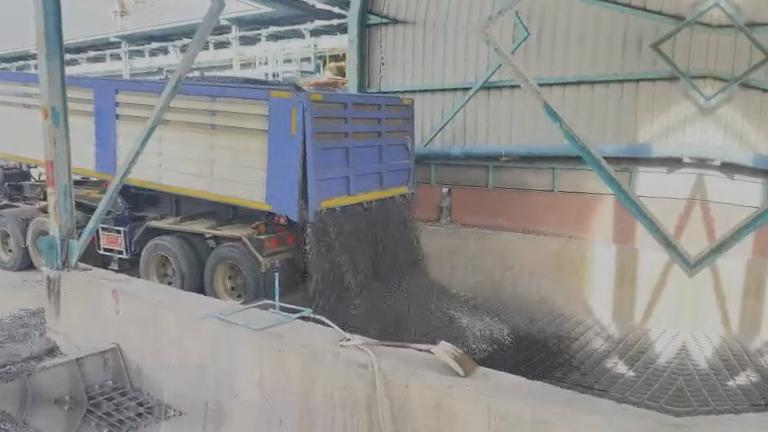gravel: (308, 197, 512, 357), (0, 309, 60, 393)
